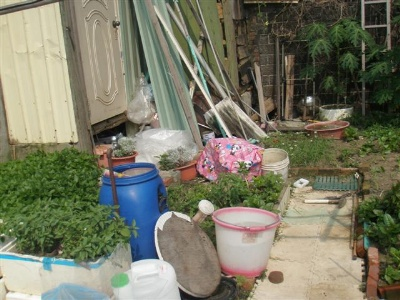bowl: (304, 120, 350, 139)
bucket: (101, 160, 169, 257), (213, 206, 281, 279), (111, 257, 182, 300), (262, 147, 291, 183)
plastic_bag: (202, 138, 262, 178), (135, 128, 186, 149)
styrofoam: (1, 239, 133, 300)
